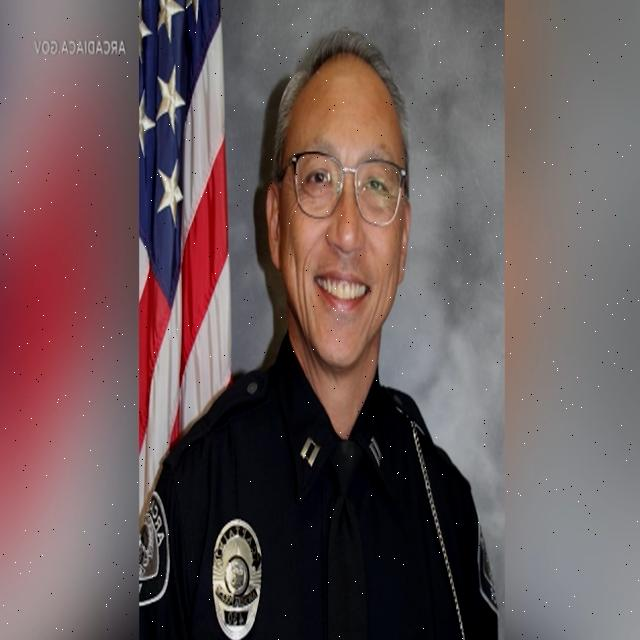police: (136, 2, 513, 640)
